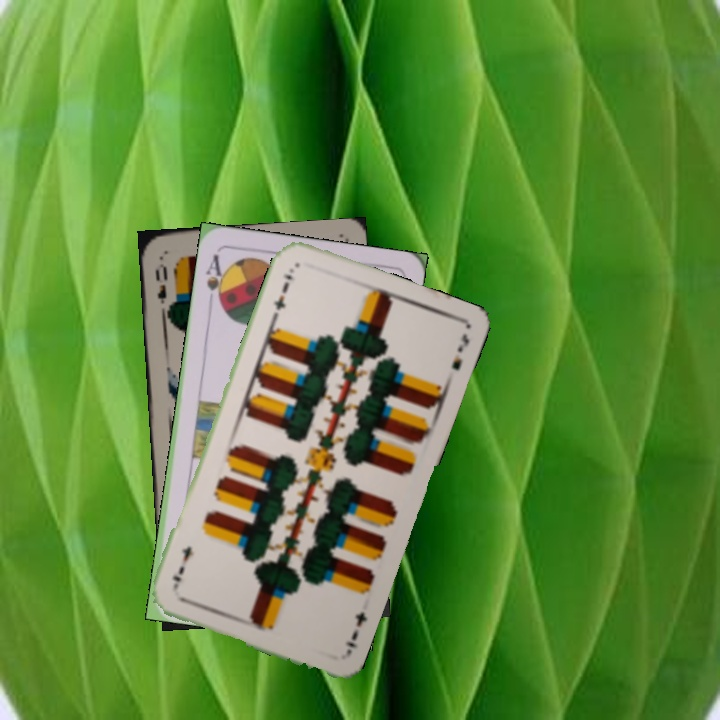E7: (269, 264, 297, 320), (341, 607, 370, 651)
EO: (151, 259, 176, 313)
SA: (201, 250, 229, 310)
